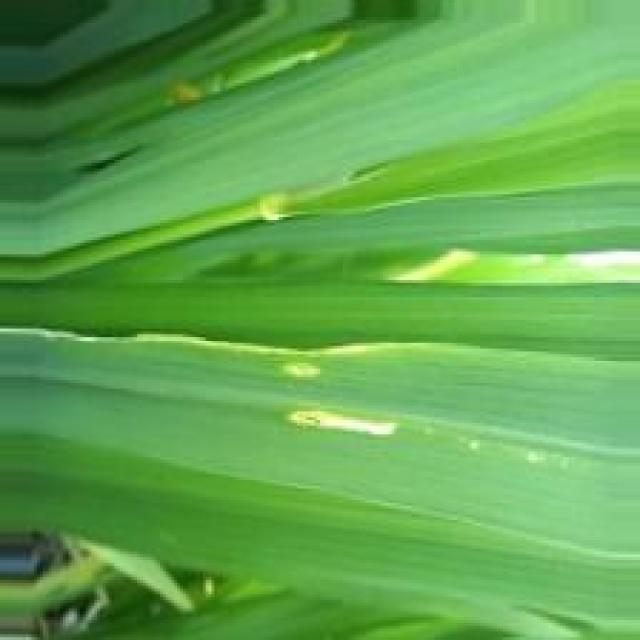Rice_Hispa: (0, 325, 457, 354), (288, 412, 407, 442)
